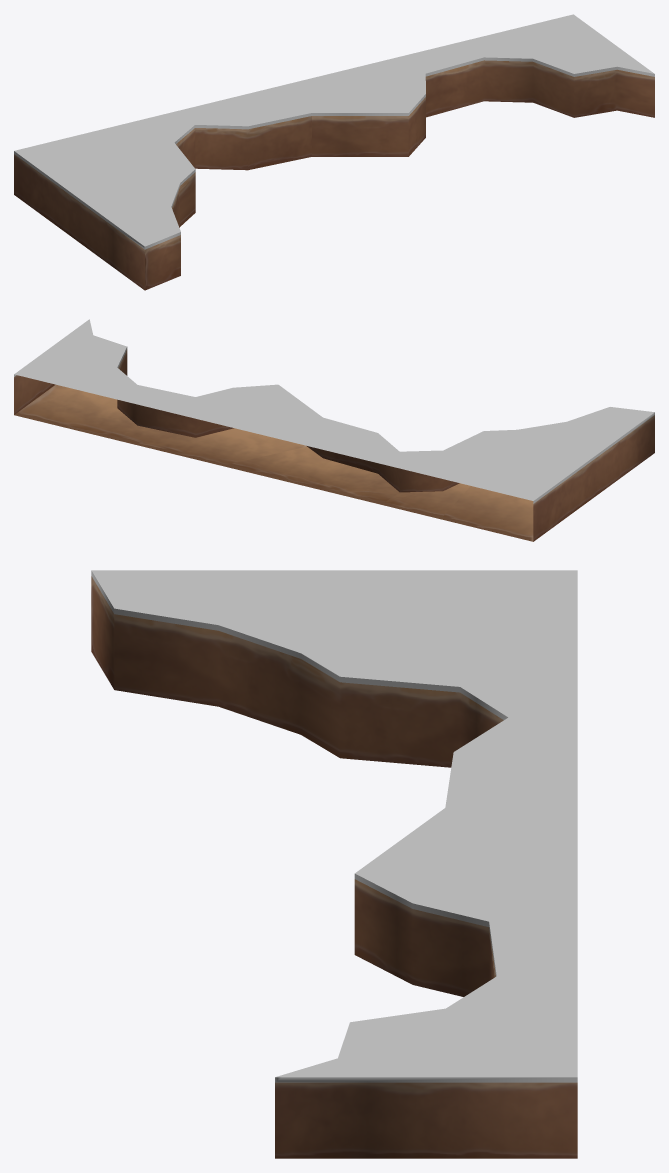
Rendered from SM_Floor_Broken_01.V3.fbx.
3 renders of one model, top to bottom at view 1: azimuth 30°, elevation 25°; view 2: azimuth 150°, elevation 25°; view 3: azimuth 270°, elevation 25°, orthographic. The views are drawn at different scales.
Visible parts, largest first — view 1: SM_Floor_Broken_01.V3; view 2: SM_Floor_Broken_01.V3; view 3: SM_Floor_Broken_01.V3.
Boxes of the visible parts, left/top/right/bottom form: SM_Floor_Broken_01.V3: left=14, top=14, right=654, bottom=290; SM_Floor_Broken_01.V3: left=14, top=319, right=654, bottom=541; SM_Floor_Broken_01.V3: left=91, top=570, right=577, bottom=1158.
Size of the model in its own units: 400 by 30 by 162.
